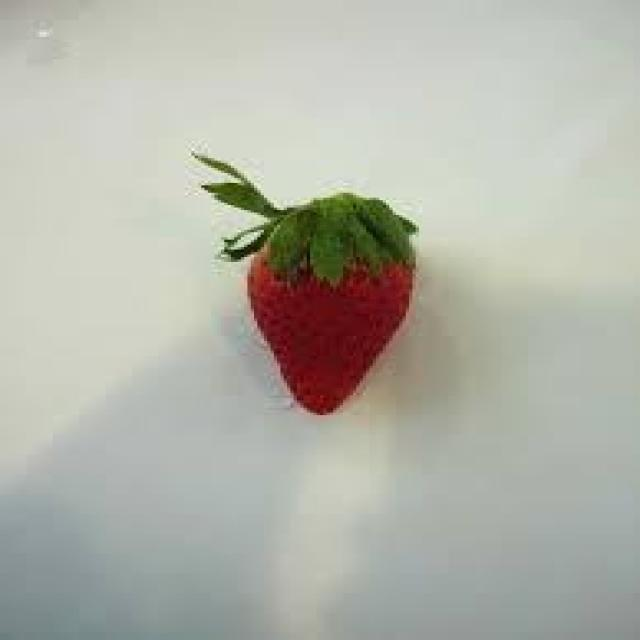mature: (246, 242, 412, 416)
